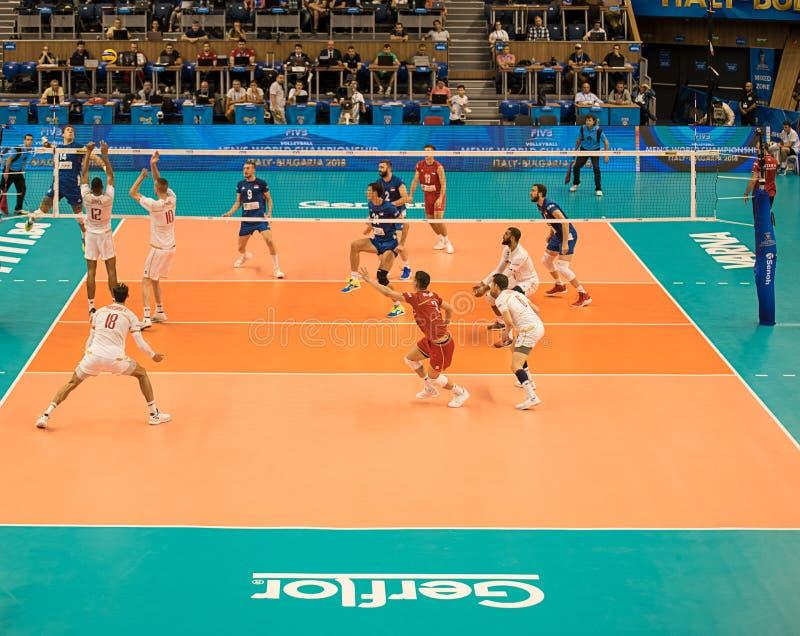ballon_volley: (102, 49, 117, 65)
